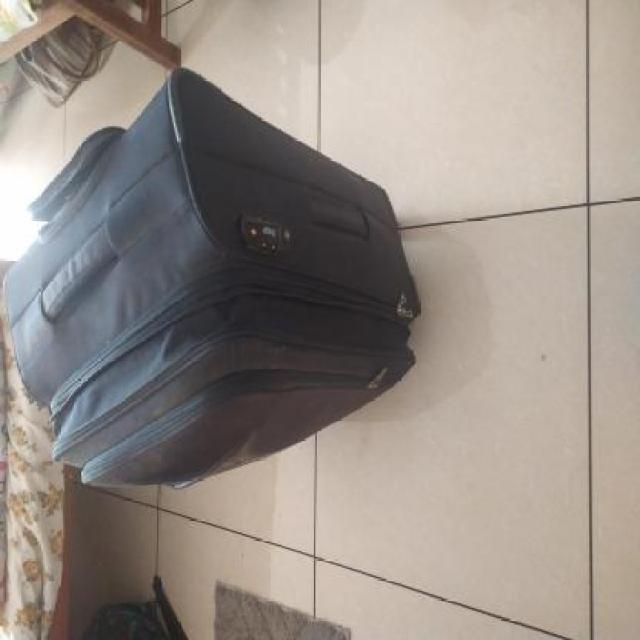backpack: (2, 64, 420, 493)
